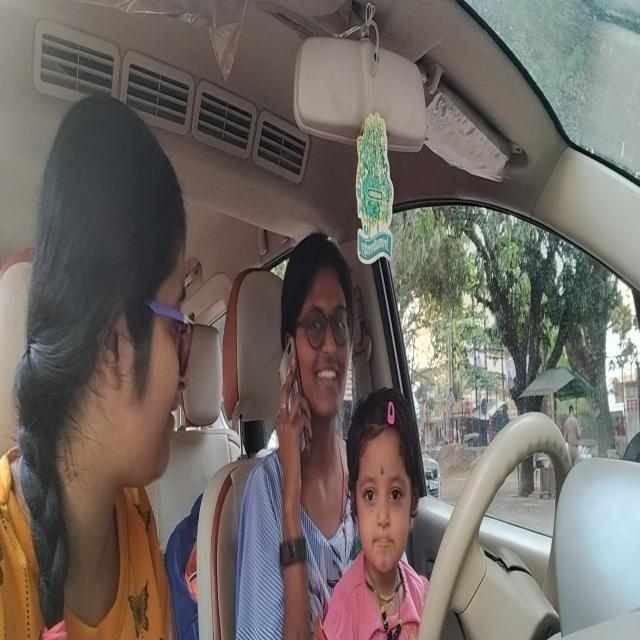child: (347, 385, 424, 574)
mobile: (279, 333, 310, 461)
person: (31, 87, 198, 500), (280, 227, 358, 421)
